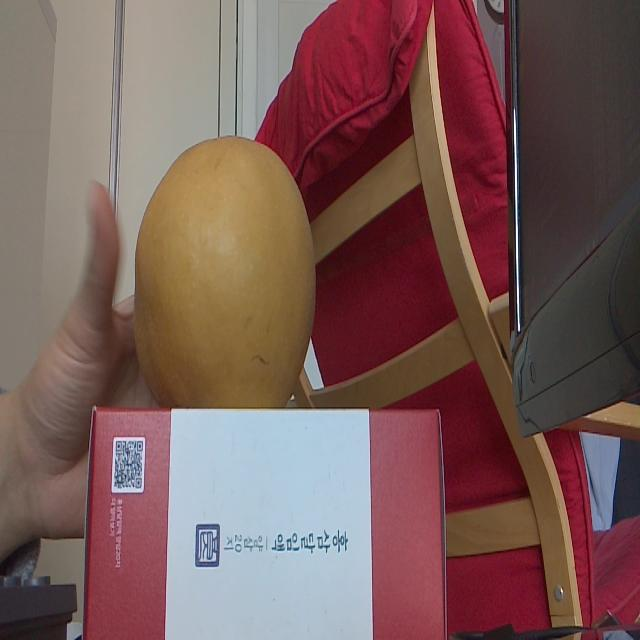pear: (135, 136, 315, 411)
